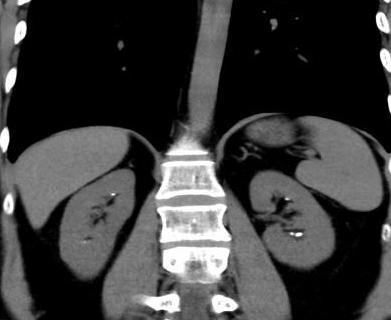Tas_Var: (80, 239, 91, 246), (109, 192, 120, 196), (295, 232, 303, 237), (284, 196, 290, 202), (289, 232, 294, 236)
